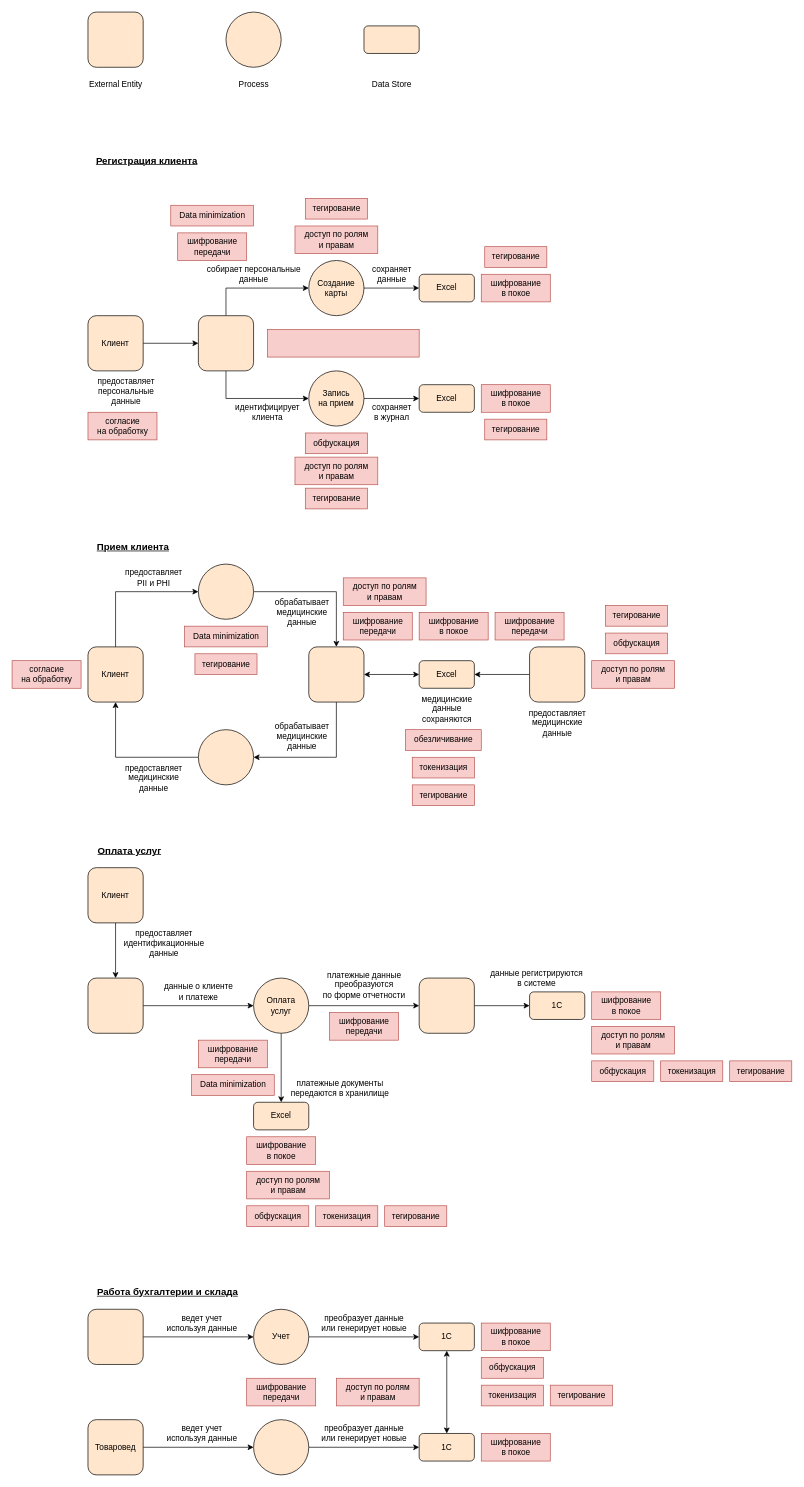
Some shapes in this 804 by 1487 pixel diagram are drawn without their labels. The centre of each missing label's shape, as x and y in pixels:
Бухгалтер: [115,1336]
Врач: [336,674]
Кассир: [115,1005]
ККМ: [446,1005]
Консультация (анамнез): [226,591]
Консультация (диагноз): [226,757]
Лаборатория: [557,674]
не хранить формы передать только требуемое данное: [343,343]
Ресепшен: [226,343]
Учет ТМЦ: [281,1447]
